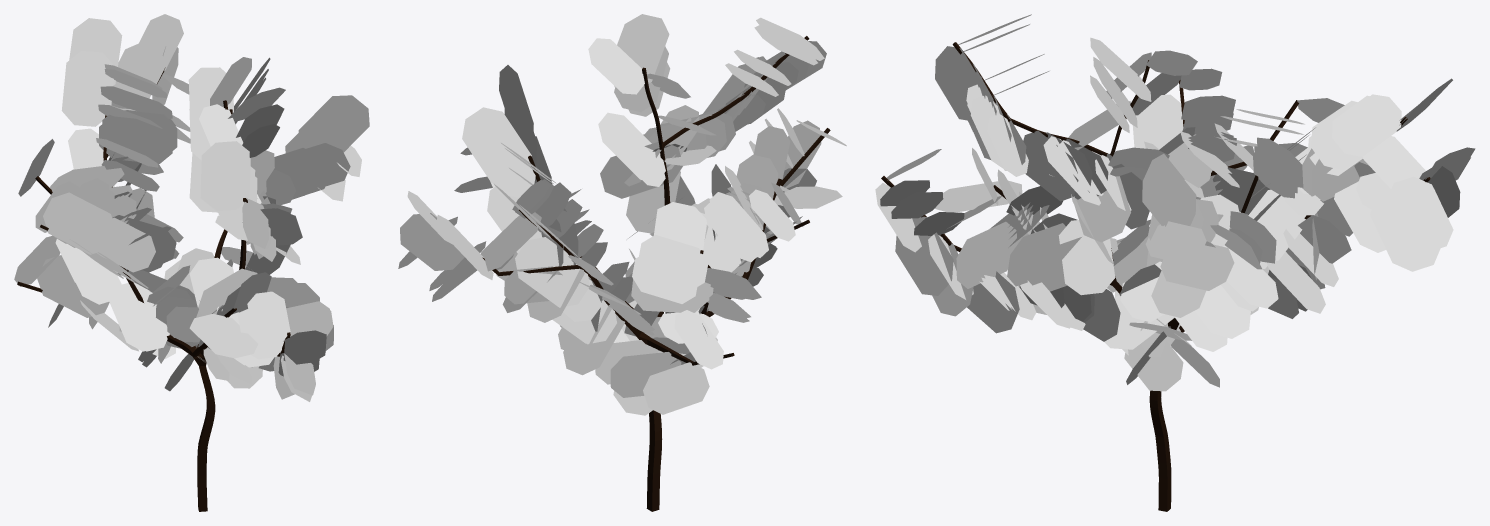
File: ArbolRojo.fbx
3 renders of one model, left to right at view 1: azimuth 30°, elevation 25°; view 2: azimuth 150°, elevation 25°; view 3: azimuth 270°, elevation 25°, orthographic. The views are drawn at different scales.
Visible parts, largest first — view 1: Plane.001; view 2: Plane.001; view 3: Plane.001.
Boxes of the visible parts, x1=… form: Plane.001: x1=14, y1=14, x2=369, y2=511; Plane.001: x1=398, y1=14, x2=846, y2=511; Plane.001: x1=875, y1=14, x2=1475, y2=511.
Bounding box in the file's own units: 499 × 643 × 718.
